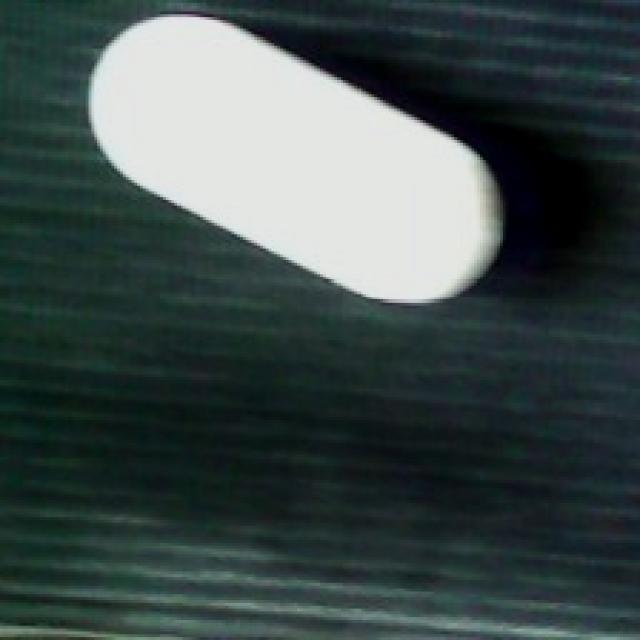no-defect: (80, 9, 506, 317)
